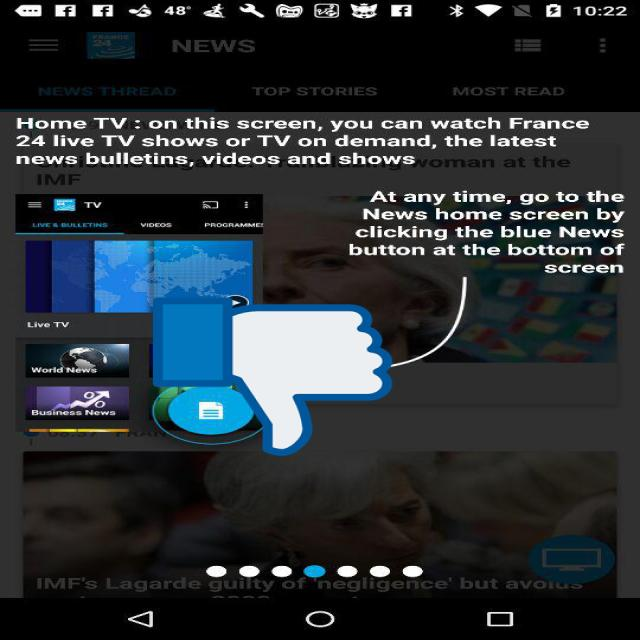obstruction: (153, 294, 392, 459)
